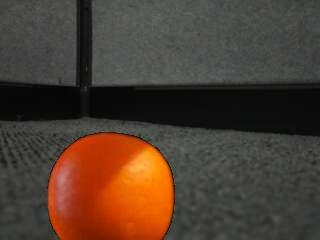Orange: (51, 131, 180, 239)
